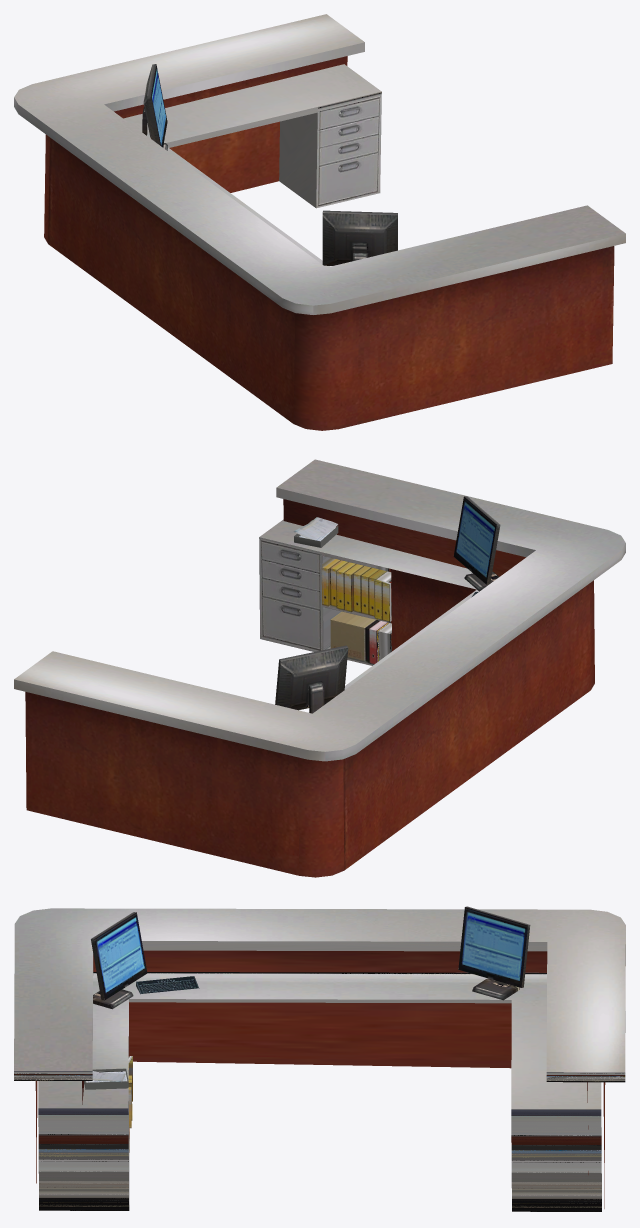
File: frontdesk.fbx
The picture shows the model from 3 angles, top to bottom: view 1: azimuth 30°, elevation 25°; view 2: azimuth 150°, elevation 25°; view 3: azimuth 270°, elevation 25°; orthographic projection.
Parts seen in each view (by area): view 1: FrontTable, PC, PC2; view 2: FrontTable, PC2, PC, notebook; view 3: FrontTable, PC2, PC, notebook, keyboard.
Part boxes in pixels (bbox=[...]): FrontTable: bbox=[14, 14, 625, 430]; PC: bbox=[322, 210, 397, 265]; PC2: bbox=[142, 64, 167, 150]; FrontTable: bbox=[14, 459, 625, 877]; PC2: bbox=[275, 645, 348, 713]; PC: bbox=[453, 496, 500, 591]; notebook: bbox=[293, 517, 338, 547]; FrontTable: bbox=[14, 908, 625, 1211]; PC2: bbox=[458, 906, 530, 1000]; PC: bbox=[91, 912, 147, 1009]; notebook: bbox=[84, 1068, 128, 1089]; keyboard: bbox=[136, 976, 199, 994].
Size of the model in its own units: 5.06 by 2.59 by 8.
Materials: 2 (2 with a texture image).
